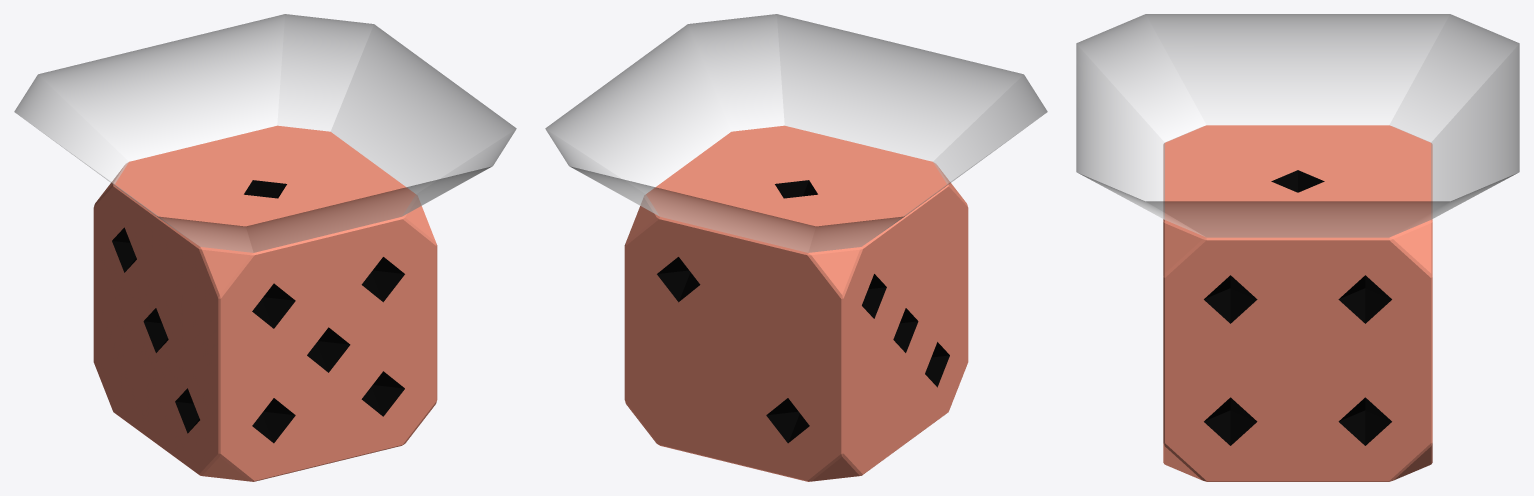
The model's file is Die.fbx.
The picture shows the model from 3 angles, left to right: view 1: azimuth 30°, elevation 25°; view 2: azimuth 150°, elevation 25°; view 3: azimuth 270°, elevation 25°; orthographic projection. The views are drawn at different scales.
Parts seen in each view (by area): view 1: Die, DieGlow; view 2: Die, DieGlow; view 3: Die, DieGlow.
Part boxes in pixels (x1=…): Die: x1=93, y1=125, x2=437, y2=481; DieGlow: x1=14, y1=14, x2=516, y2=252; Die: x1=624, y1=125, x2=968, y2=481; DieGlow: x1=545, y1=14, x2=1047, y2=252; Die: x1=1163, y1=125, x2=1432, y2=481; DieGlow: x1=1076, y1=14, x2=1519, y2=237.
Size of what is drawn, in the model's own units: 3.29 by 2.6 by 3.29.
